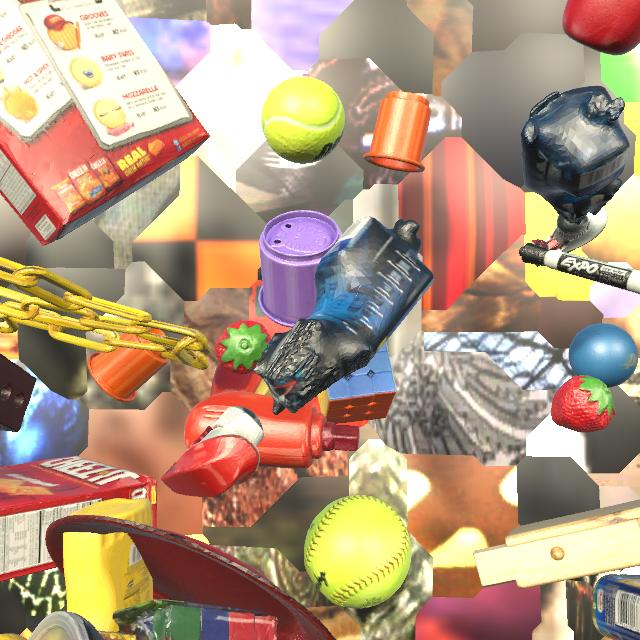ycb_003_cracker_box: (0, 0, 210, 246), (0, 456, 157, 582)
ycb_006_mustard_bottle: (63, 498, 153, 632)
ycb_010_potted_meat_can: (592, 574, 640, 640)
ycb_012_strawberry: (551, 375, 615, 433), (215, 320, 271, 375)
ycb_013_apple: (562, 0, 640, 55)
ycb_014_lemon: (0, 633, 27, 640)
